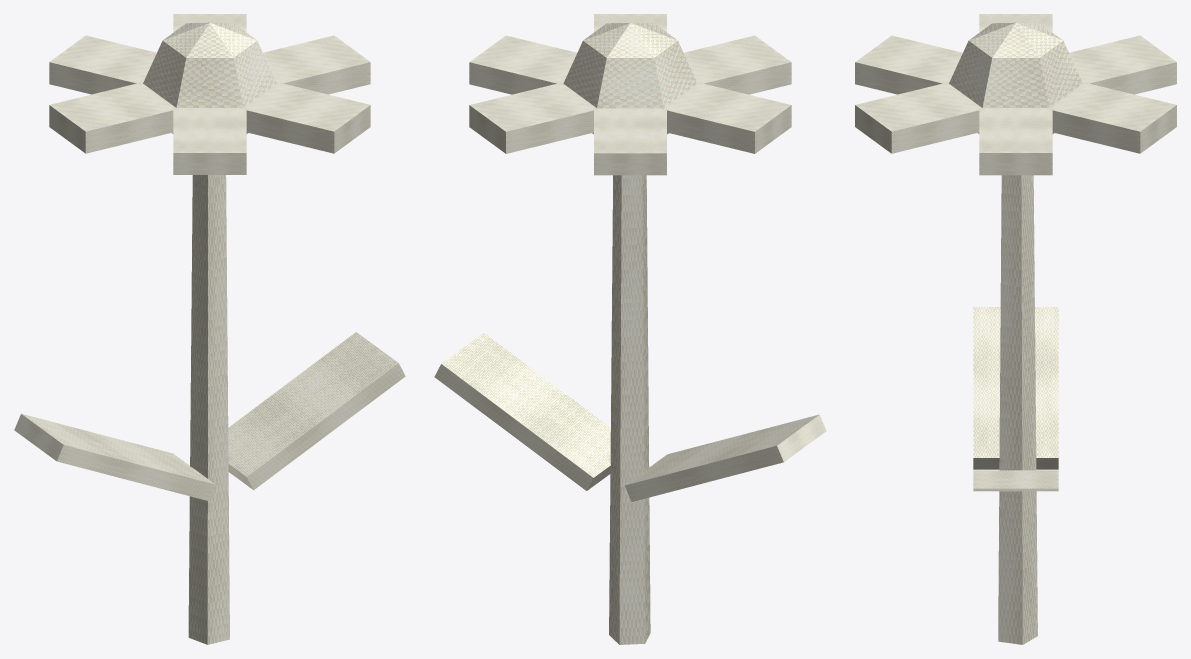
Rendered from margarida.glb.
3 views of the same model, side by side, from view 1: azimuth 30°, elevation 25°; view 2: azimuth 150°, elevation 25°; view 3: azimuth 270°, elevation 25° (orthographic).
Parts seen in each view (by area): view 1: margarida; view 2: margarida; view 3: margarida.
Boxes of the visible parts, x1,y1,x2,y2 form: margarida: [14, 14, 405, 644]; margarida: [434, 14, 826, 644]; margarida: [855, 14, 1176, 644].
Bounding box in the file's own units: 0.3306 × 0.555 × 0.2638.
1 material, 1 textured.
